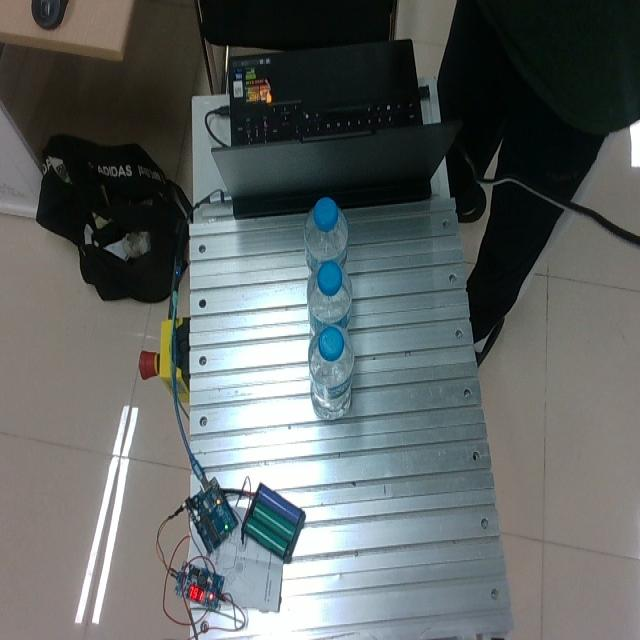lavie: (307, 322, 355, 418), (303, 199, 348, 277), (307, 260, 353, 335)
